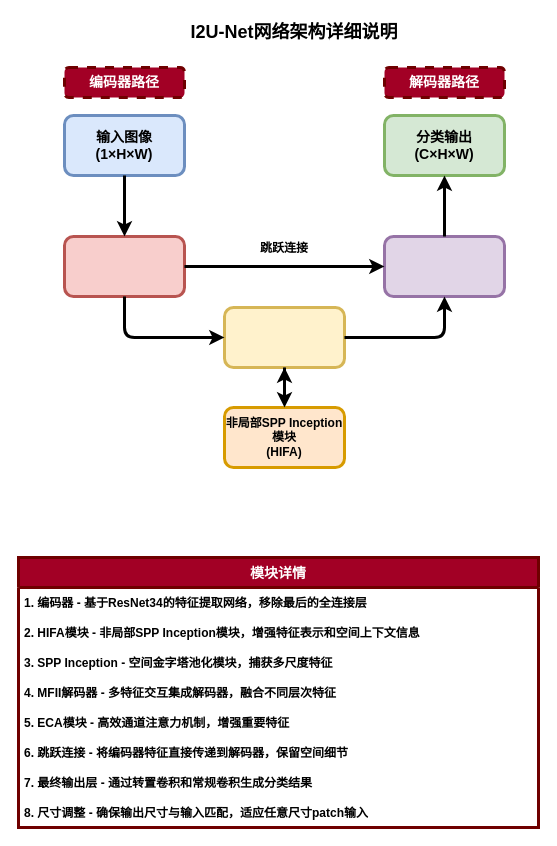
Some shapes in this 557 by 846 pixel diagram are drawn without their labels. The shapes that lost their labels are listed below. From the top down, each one's centre as x and y in pixels, then its label:
At point (124, 266): "ResNet34编码器".
At point (444, 266): "多特征交互集成解码器 (MFII_DecoderBlock)".
At point (284, 337): "特征提取模块 （多层特征提取）".
